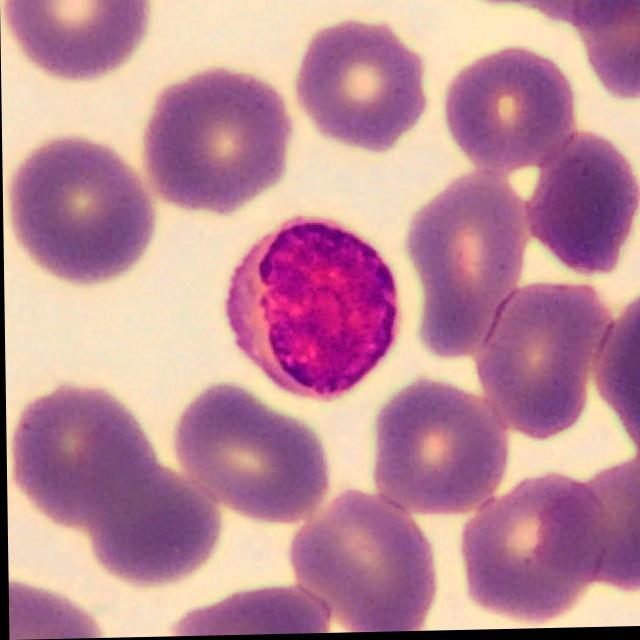Linfocito: (225, 219, 399, 402)
